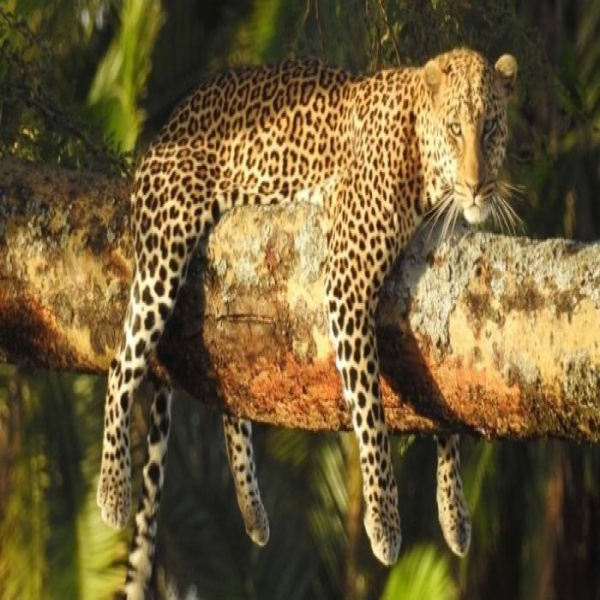Leopard: (97, 42, 524, 570)
